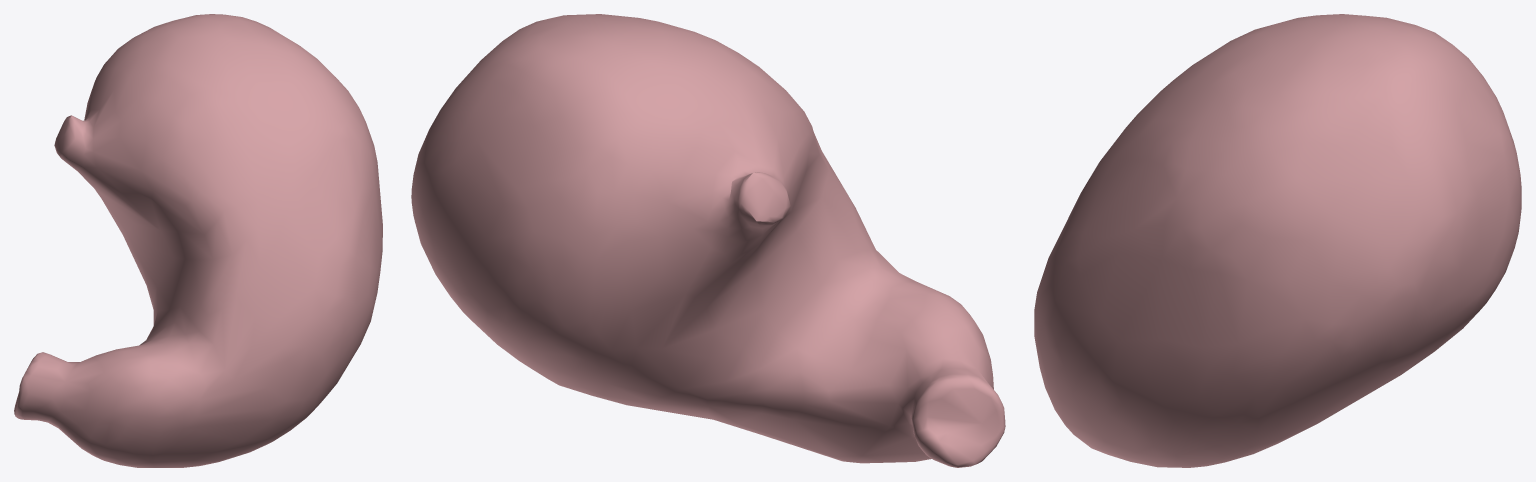
The model's file is fma7148_fj2564.glb.
3 renders of one model, left to right at view 1: azimuth 30°, elevation 25°; view 2: azimuth 150°, elevation 25°; view 3: azimuth 270°, elevation 25°, orthographic. The views are drawn at different scales.
Parts seen in each view (by area): view 1: FMA7148_FJ2564; view 2: FMA7148_FJ2564; view 3: FMA7148_FJ2564.
Part boxes in pixels (bbox=[...]): FMA7148_FJ2564: bbox=[14, 14, 382, 467]; FMA7148_FJ2564: bbox=[411, 14, 1005, 467]; FMA7148_FJ2564: bbox=[1034, 14, 1521, 467].
Size of the model in its own units: 0.1345 by 0.117 by 0.1129.
